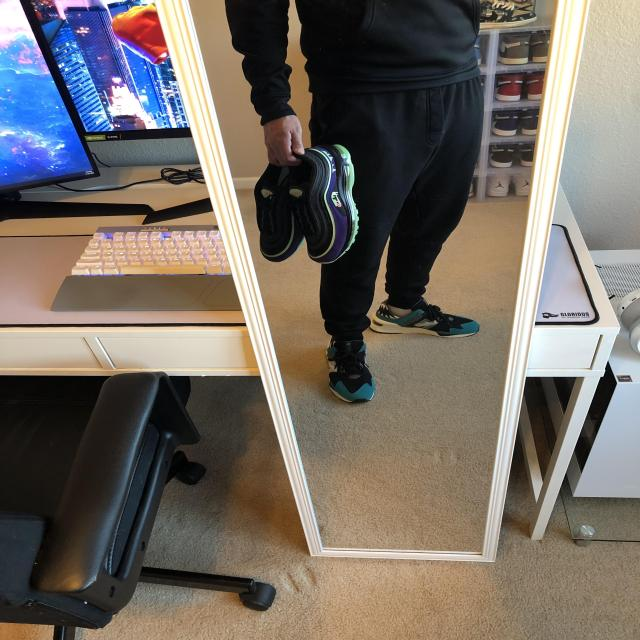shoe: (299, 138, 371, 272), (240, 149, 316, 268), (358, 286, 498, 344), (314, 314, 384, 414)
